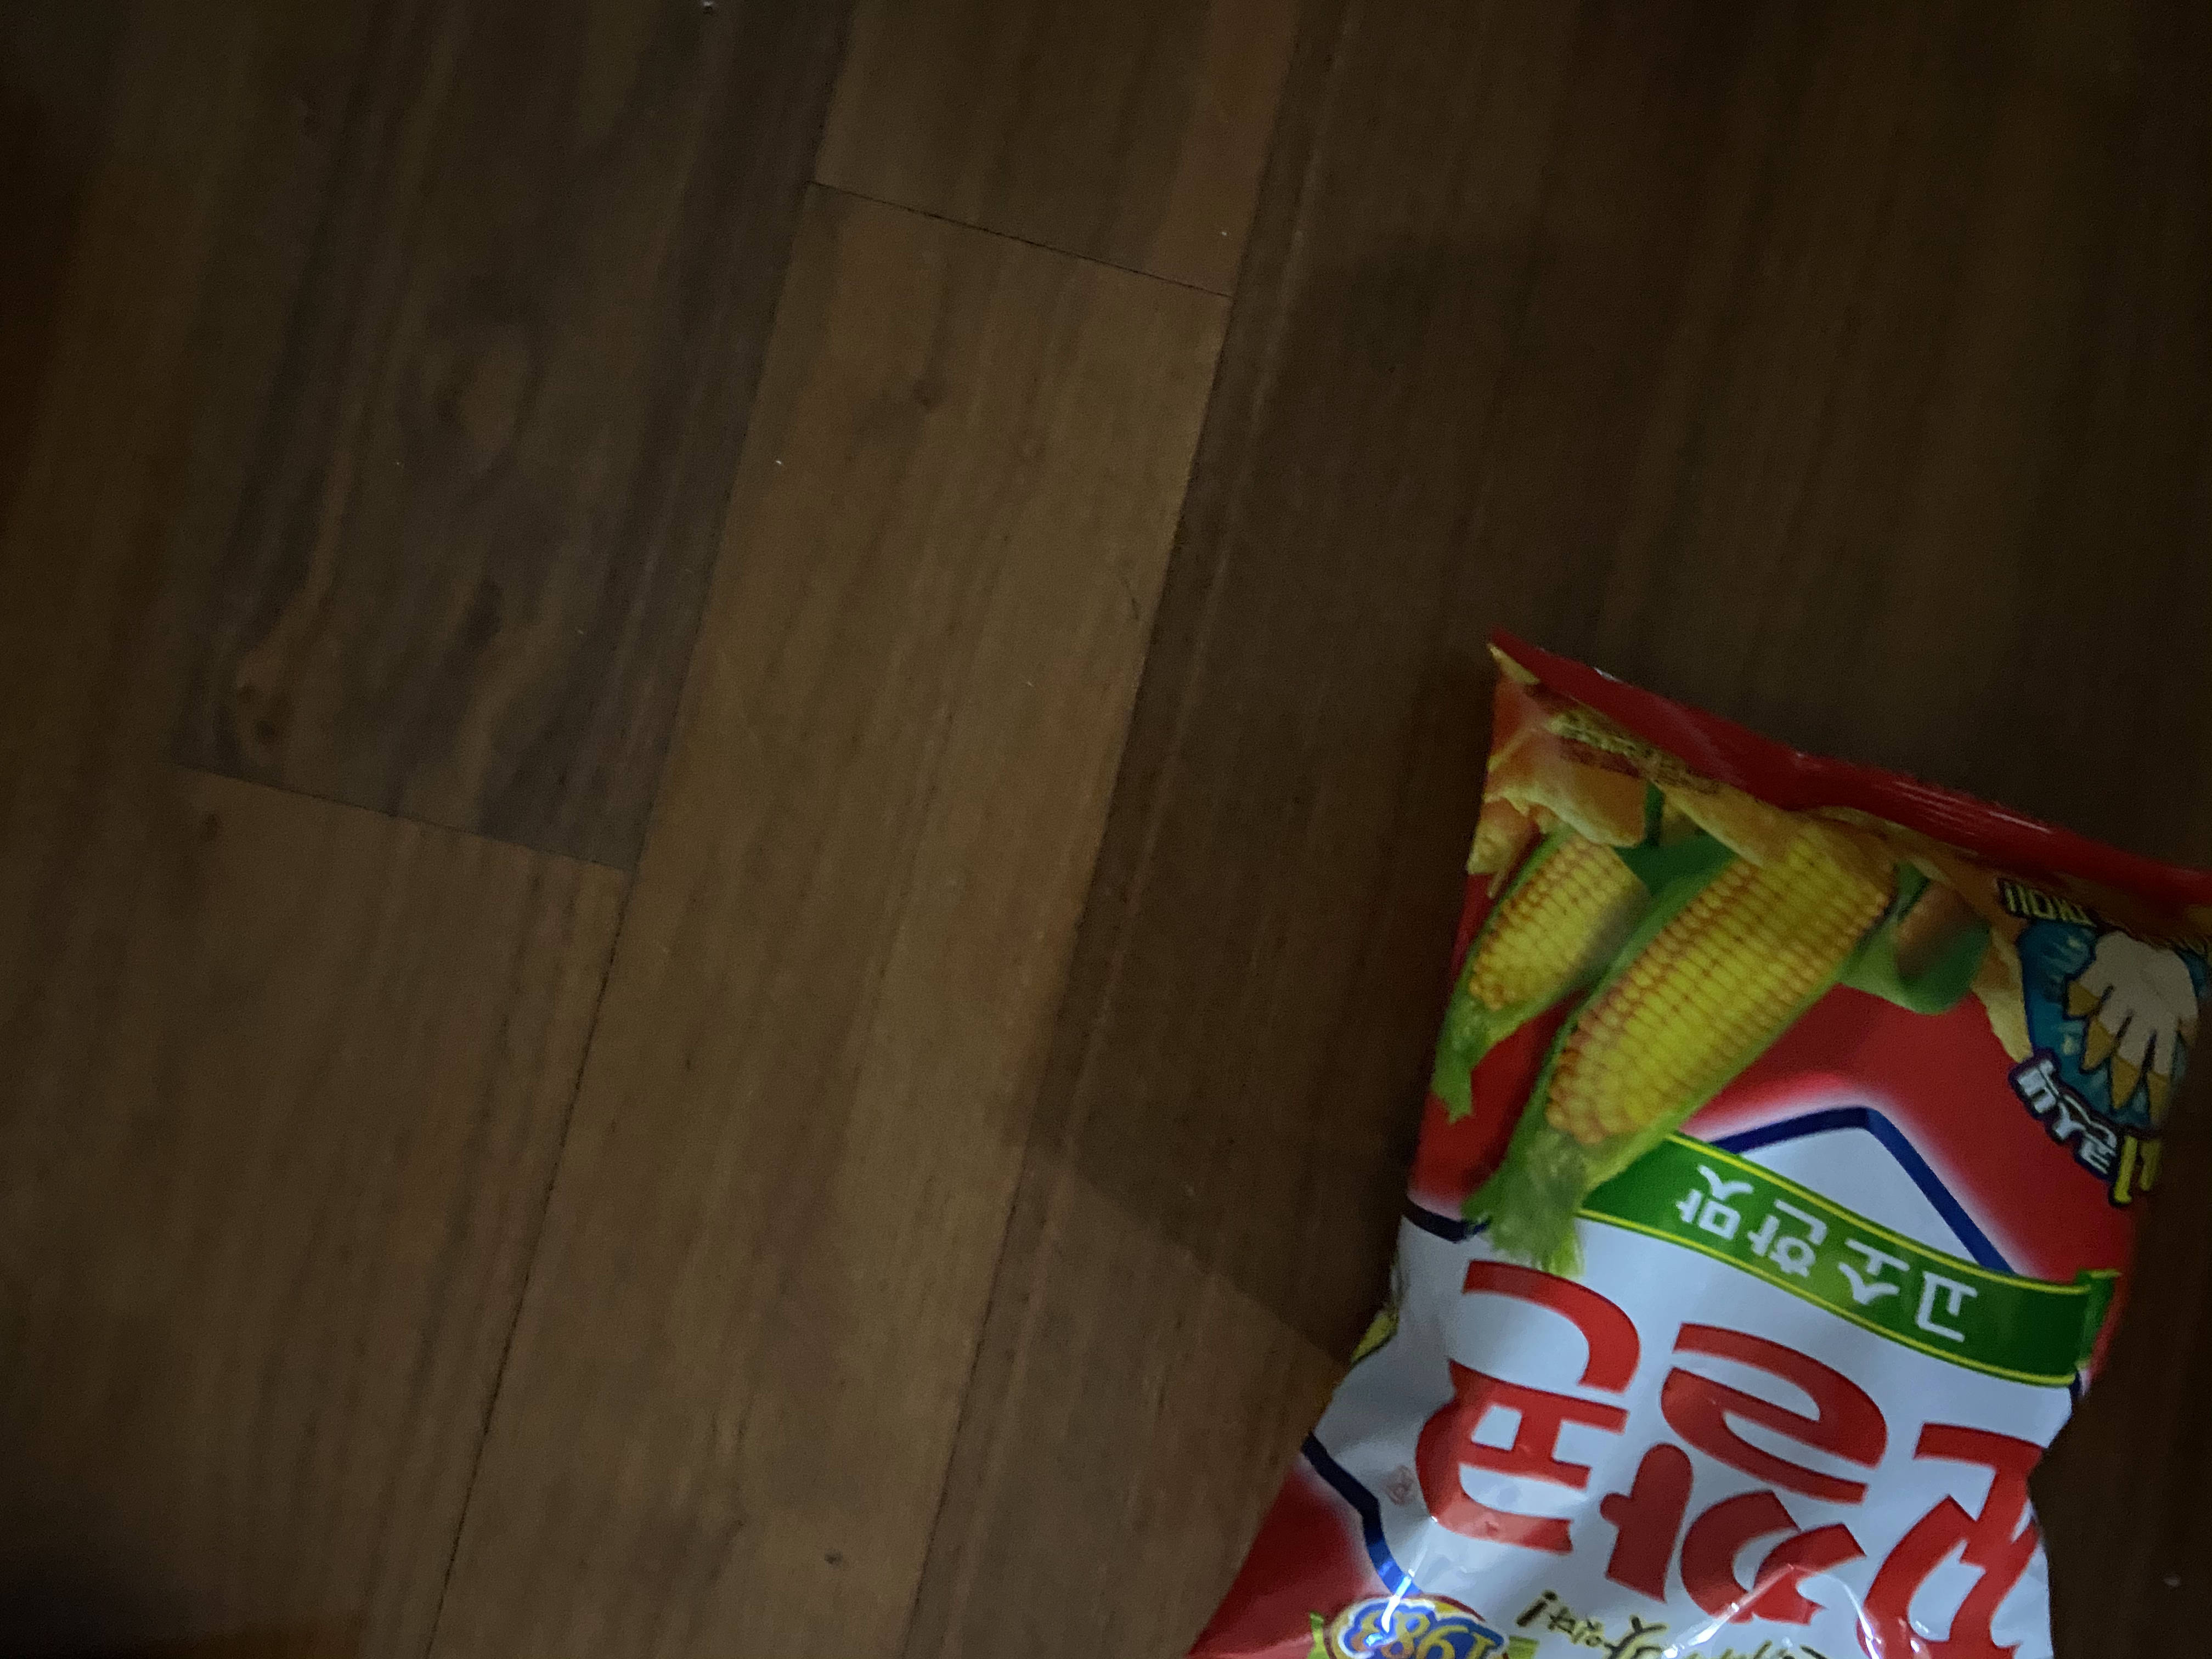ggoggalcon: (1184, 617, 2212, 1659)
